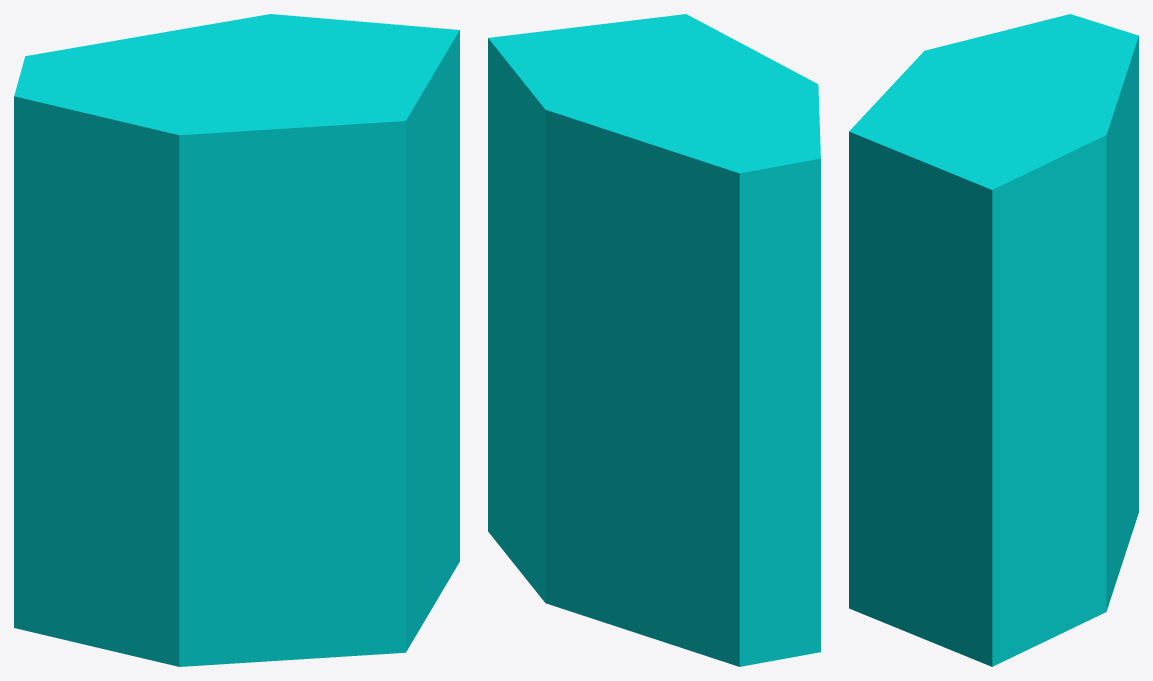
The model's file is SM_Env_Bamboo_04_Collision.fbx.
3 views of the same model, side by side, from view 1: azimuth 30°, elevation 25°; view 2: azimuth 150°, elevation 25°; view 3: azimuth 270°, elevation 25° (orthographic). The views are drawn at different scales.
Visible parts, largest first — view 1: SM_Env_Bamboo_04_Collision; view 2: SM_Env_Bamboo_04_Collision; view 3: SM_Env_Bamboo_04_Collision.
Boxes of the visible parts, x1,y1,x2,y2 form: SM_Env_Bamboo_04_Collision: (14,14,459,666); SM_Env_Bamboo_04_Collision: (488,14,820,666); SM_Env_Bamboo_04_Collision: (849,14,1138,666).
Size of the model in its own units: 408 by 515 by 284.
